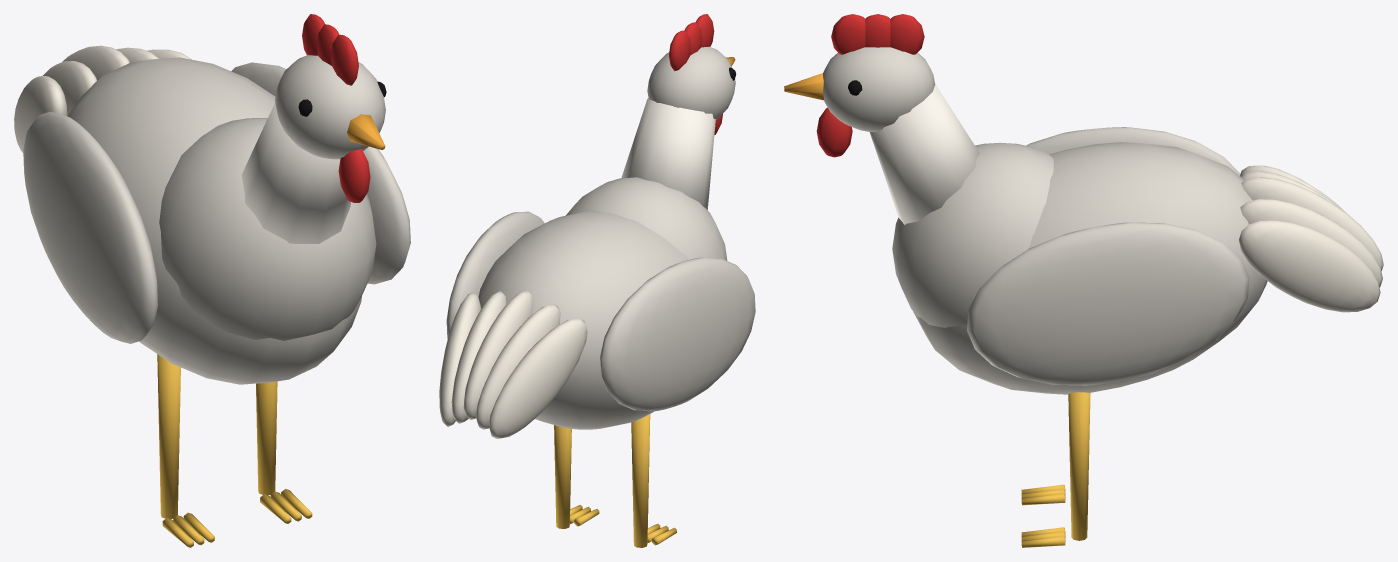
File: broiler.glb
The picture shows the model from 3 angles, left to right: view 1: azimuth 30°, elevation 25°; view 2: azimuth 150°, elevation 25°; view 3: azimuth 270°, elevation 25°; orthographic projection. The views are drawn at different scales.
Parts seen in each view (by area): view 1: broiler; view 2: broiler; view 3: broiler.
Part boxes in pixels (<box>): broiler: <box>14,14,410,547</box>; broiler: <box>439,14,755,547</box>; broiler: <box>784,14,1383,547</box>.
Bounding box in the file's own units: 0.4041 × 0.779 × 0.8332.
